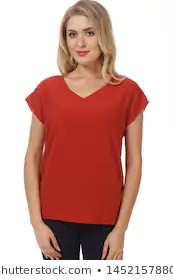C_short blouse: (23, 72, 153, 230)
